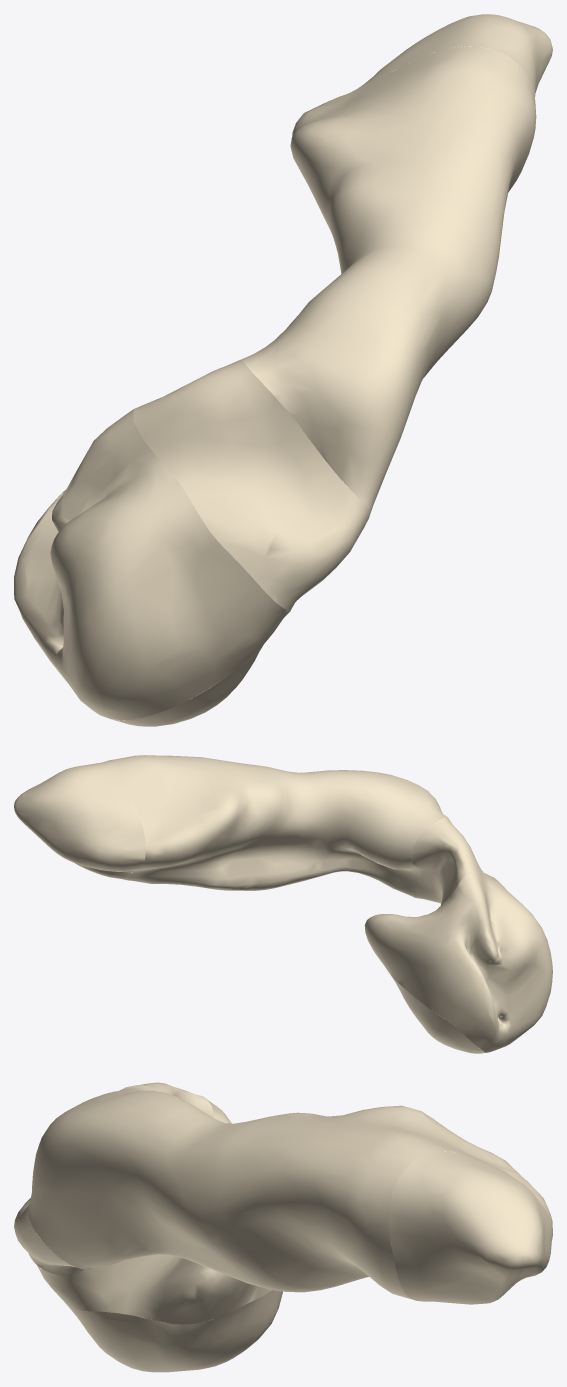
Rendered from vh_m_pancreas-40.glb.
3 views of the same model, one above another, from view 1: azimuth 30°, elevation 25°; view 2: azimuth 150°, elevation 25°; view 3: azimuth 270°, elevation 25° (orthographic). The views are drawn at different scales.
Visible parts, largest first — view 1: VH_M_body_of_pancreas, VH_M_head_of_pancreas, VH_M_neck_of_pancreas, VH_M_tail_of_pancreas, VH_M_uncinate_process_of_the_pancreas; view 2: VH_M_body_of_pancreas, VH_M_head_of_pancreas, VH_M_tail_of_pancreas, VH_M_neck_of_pancreas, VH_M_uncinate_process_of_the_pancreas; view 3: VH_M_body_of_pancreas, VH_M_tail_of_pancreas, VH_M_head_of_pancreas, VH_M_uncinate_process_of_the_pancreas, VH_M_neck_of_pancreas.
Boxes of the visible parts, x1,y1,x2,y2 form: VH_M_body_of_pancreas: (241,46,536,516); VH_M_head_of_pancreas: (14,409,290,720); VH_M_neck_of_pancreas: (133,359,369,610); VH_M_tail_of_pancreas: (335,14,552,98); VH_M_uncinate_process_of_the_pancreas: (111,647,261,726); VH_M_body_of_pancreas: (112,755,447,897); VH_M_head_of_pancreas: (364,875,552,1052); VH_M_tail_of_pancreas: (14,760,145,880); VH_M_neck_of_pancreas: (411,817,501,905); VH_M_uncinate_process_of_the_pancreas: (392,977,485,1053); VH_M_body_of_pancreas: (28,1085,520,1298); VH_M_tail_of_pancreas: (389,1151,552,1304); VH_M_head_of_pancreas: (37,1097,271,1324); VH_M_uncinate_process_of_the_pancreas: (70,1290,282,1372); VH_M_neck_of_pancreas: (14,1082,213,1274).
Size of the model in its own units: 0.1115 by 0.0721 by 0.0836.
